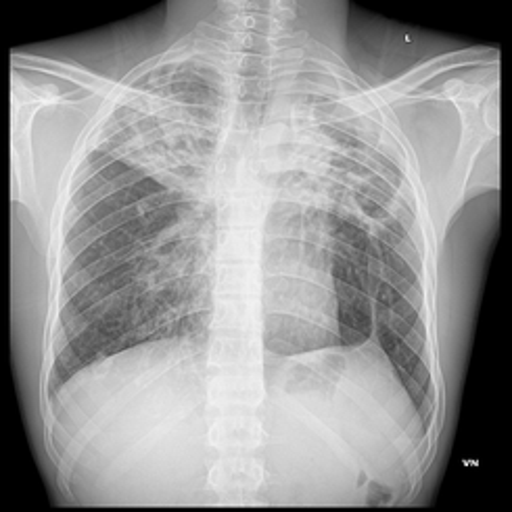TB: (101, 95, 212, 213), (311, 115, 403, 250)
